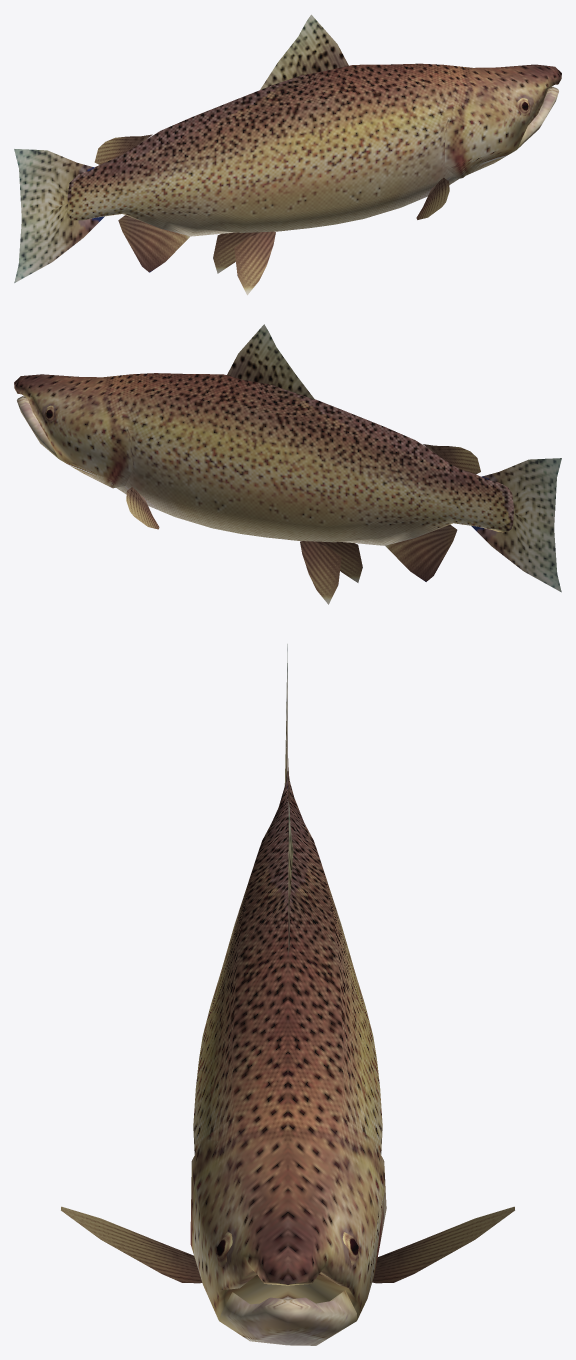
File: zunyu.FBX
3 renders of one model, top to bottom at view 1: azimuth 30°, elevation 25°; view 2: azimuth 150°, elevation 25°; view 3: azimuth 270°, elevation 25°, orthographic. The views are drawn at different scales.
Parts seen in each view (by area): view 1: zunyu; view 2: zunyu; view 3: zunyu.
Part boxes in pixels (box(x1,y1,x2,y2)): zunyu: box(14, 14, 561, 295); zunyu: box(14, 324, 561, 604); zunyu: box(61, 644, 514, 1345).
Size of the model in its own units: 41.4 by 18.12 by 14.87.
Materials: 1 (1 with a texture image).
